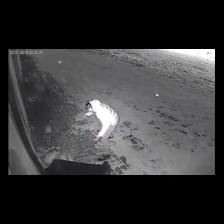person: (85, 100, 118, 160)
